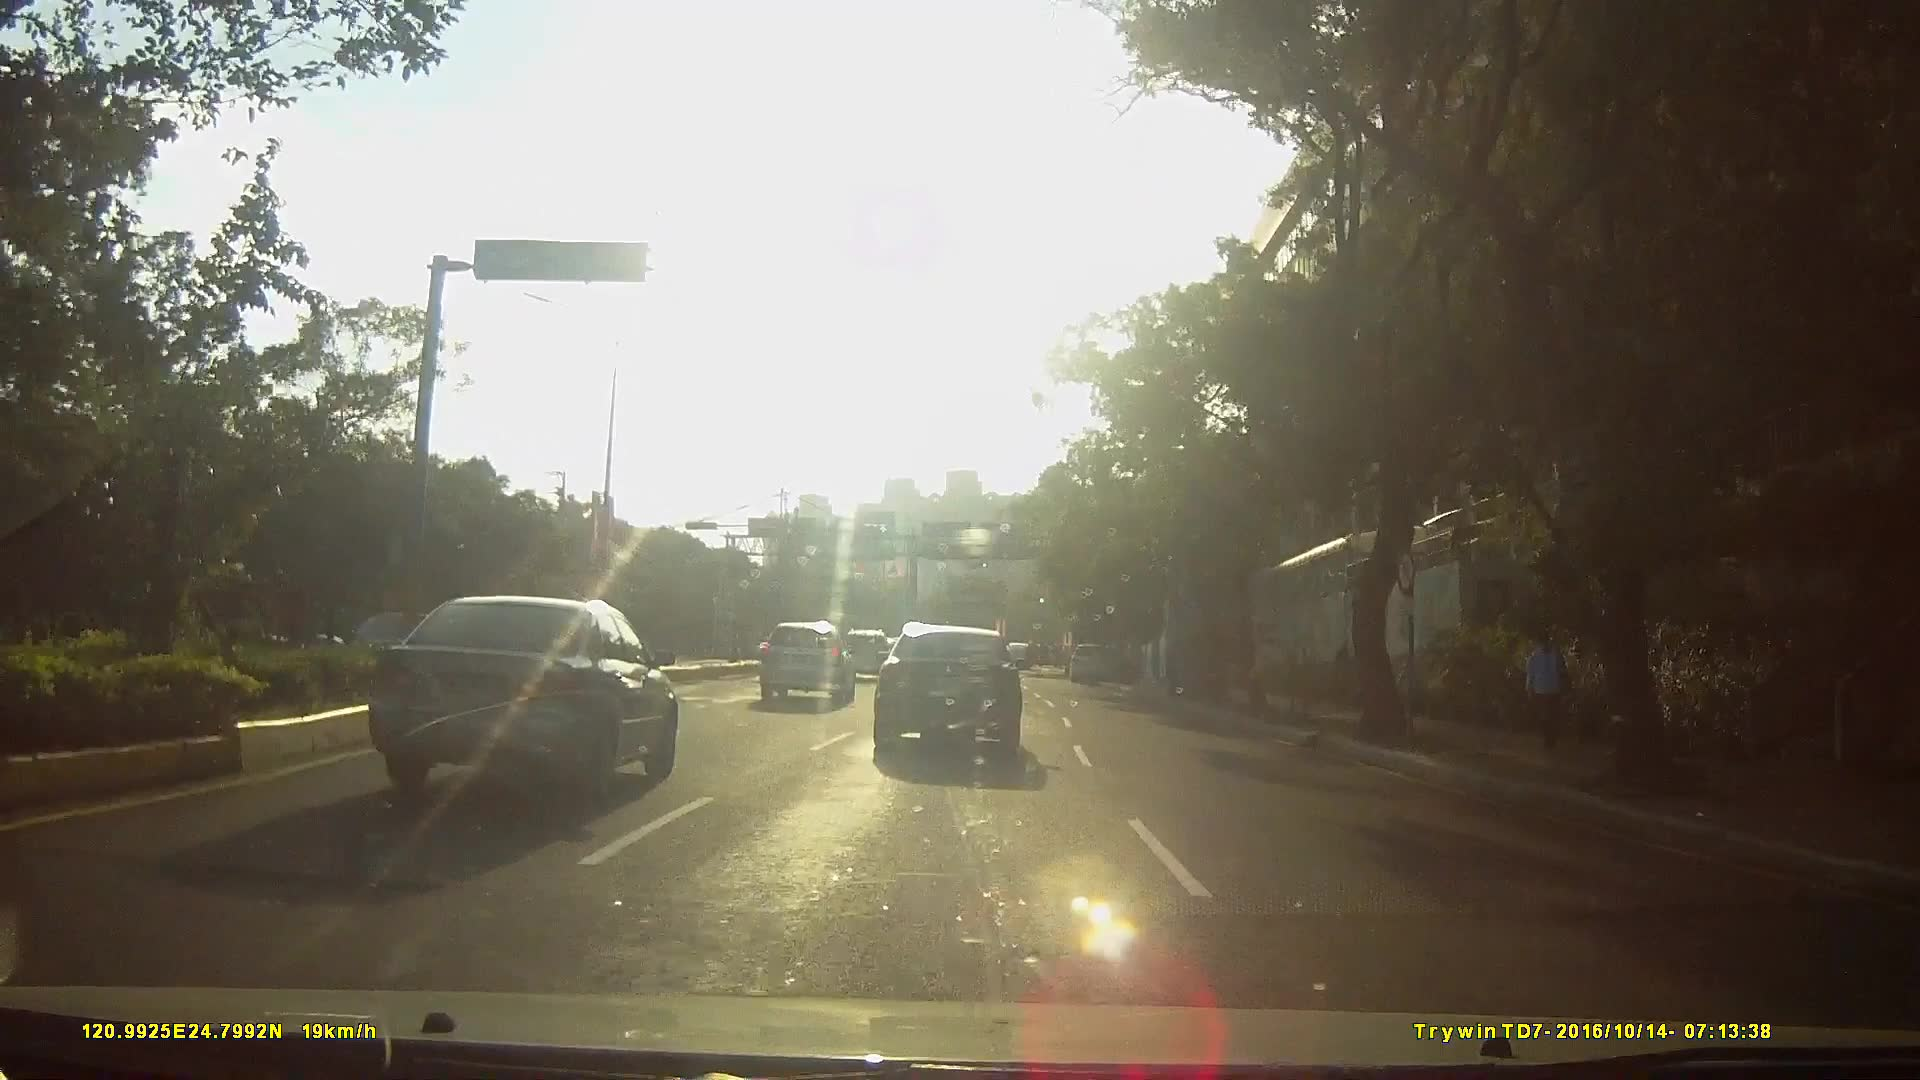pedestrian: (1522, 623, 1573, 748)
vehicle: (360, 583, 675, 796), (868, 615, 1040, 758), (756, 614, 856, 702), (838, 621, 892, 679), (1068, 633, 1117, 677)
